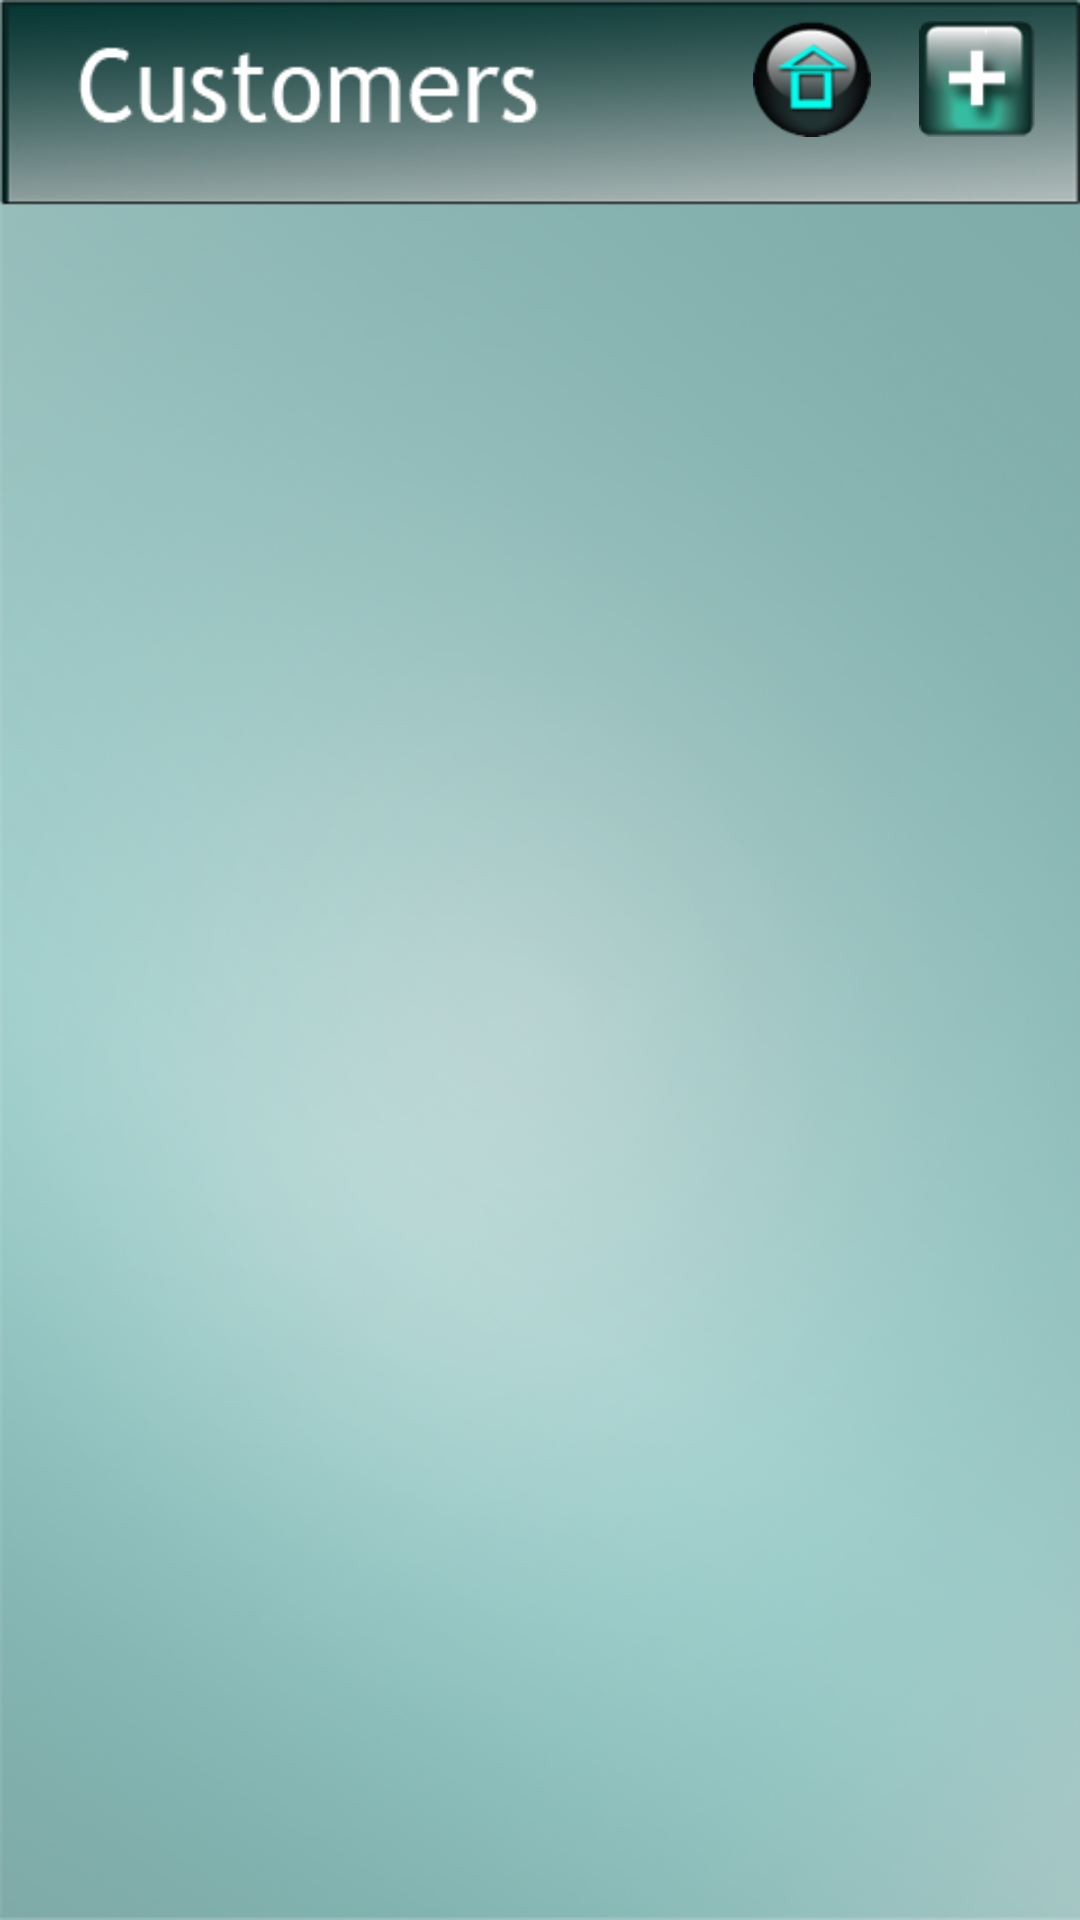

Icon click points for this 1080w x 1920h phone screenshot, format (x,y):
home: (812,79)
list add: (977,79)
